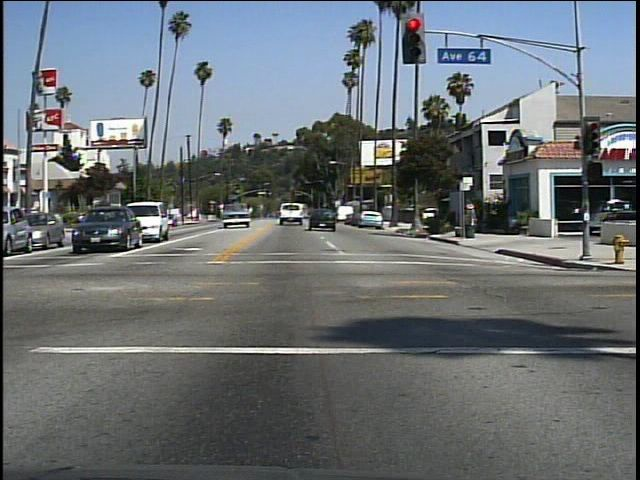person: (464, 198, 485, 241)
